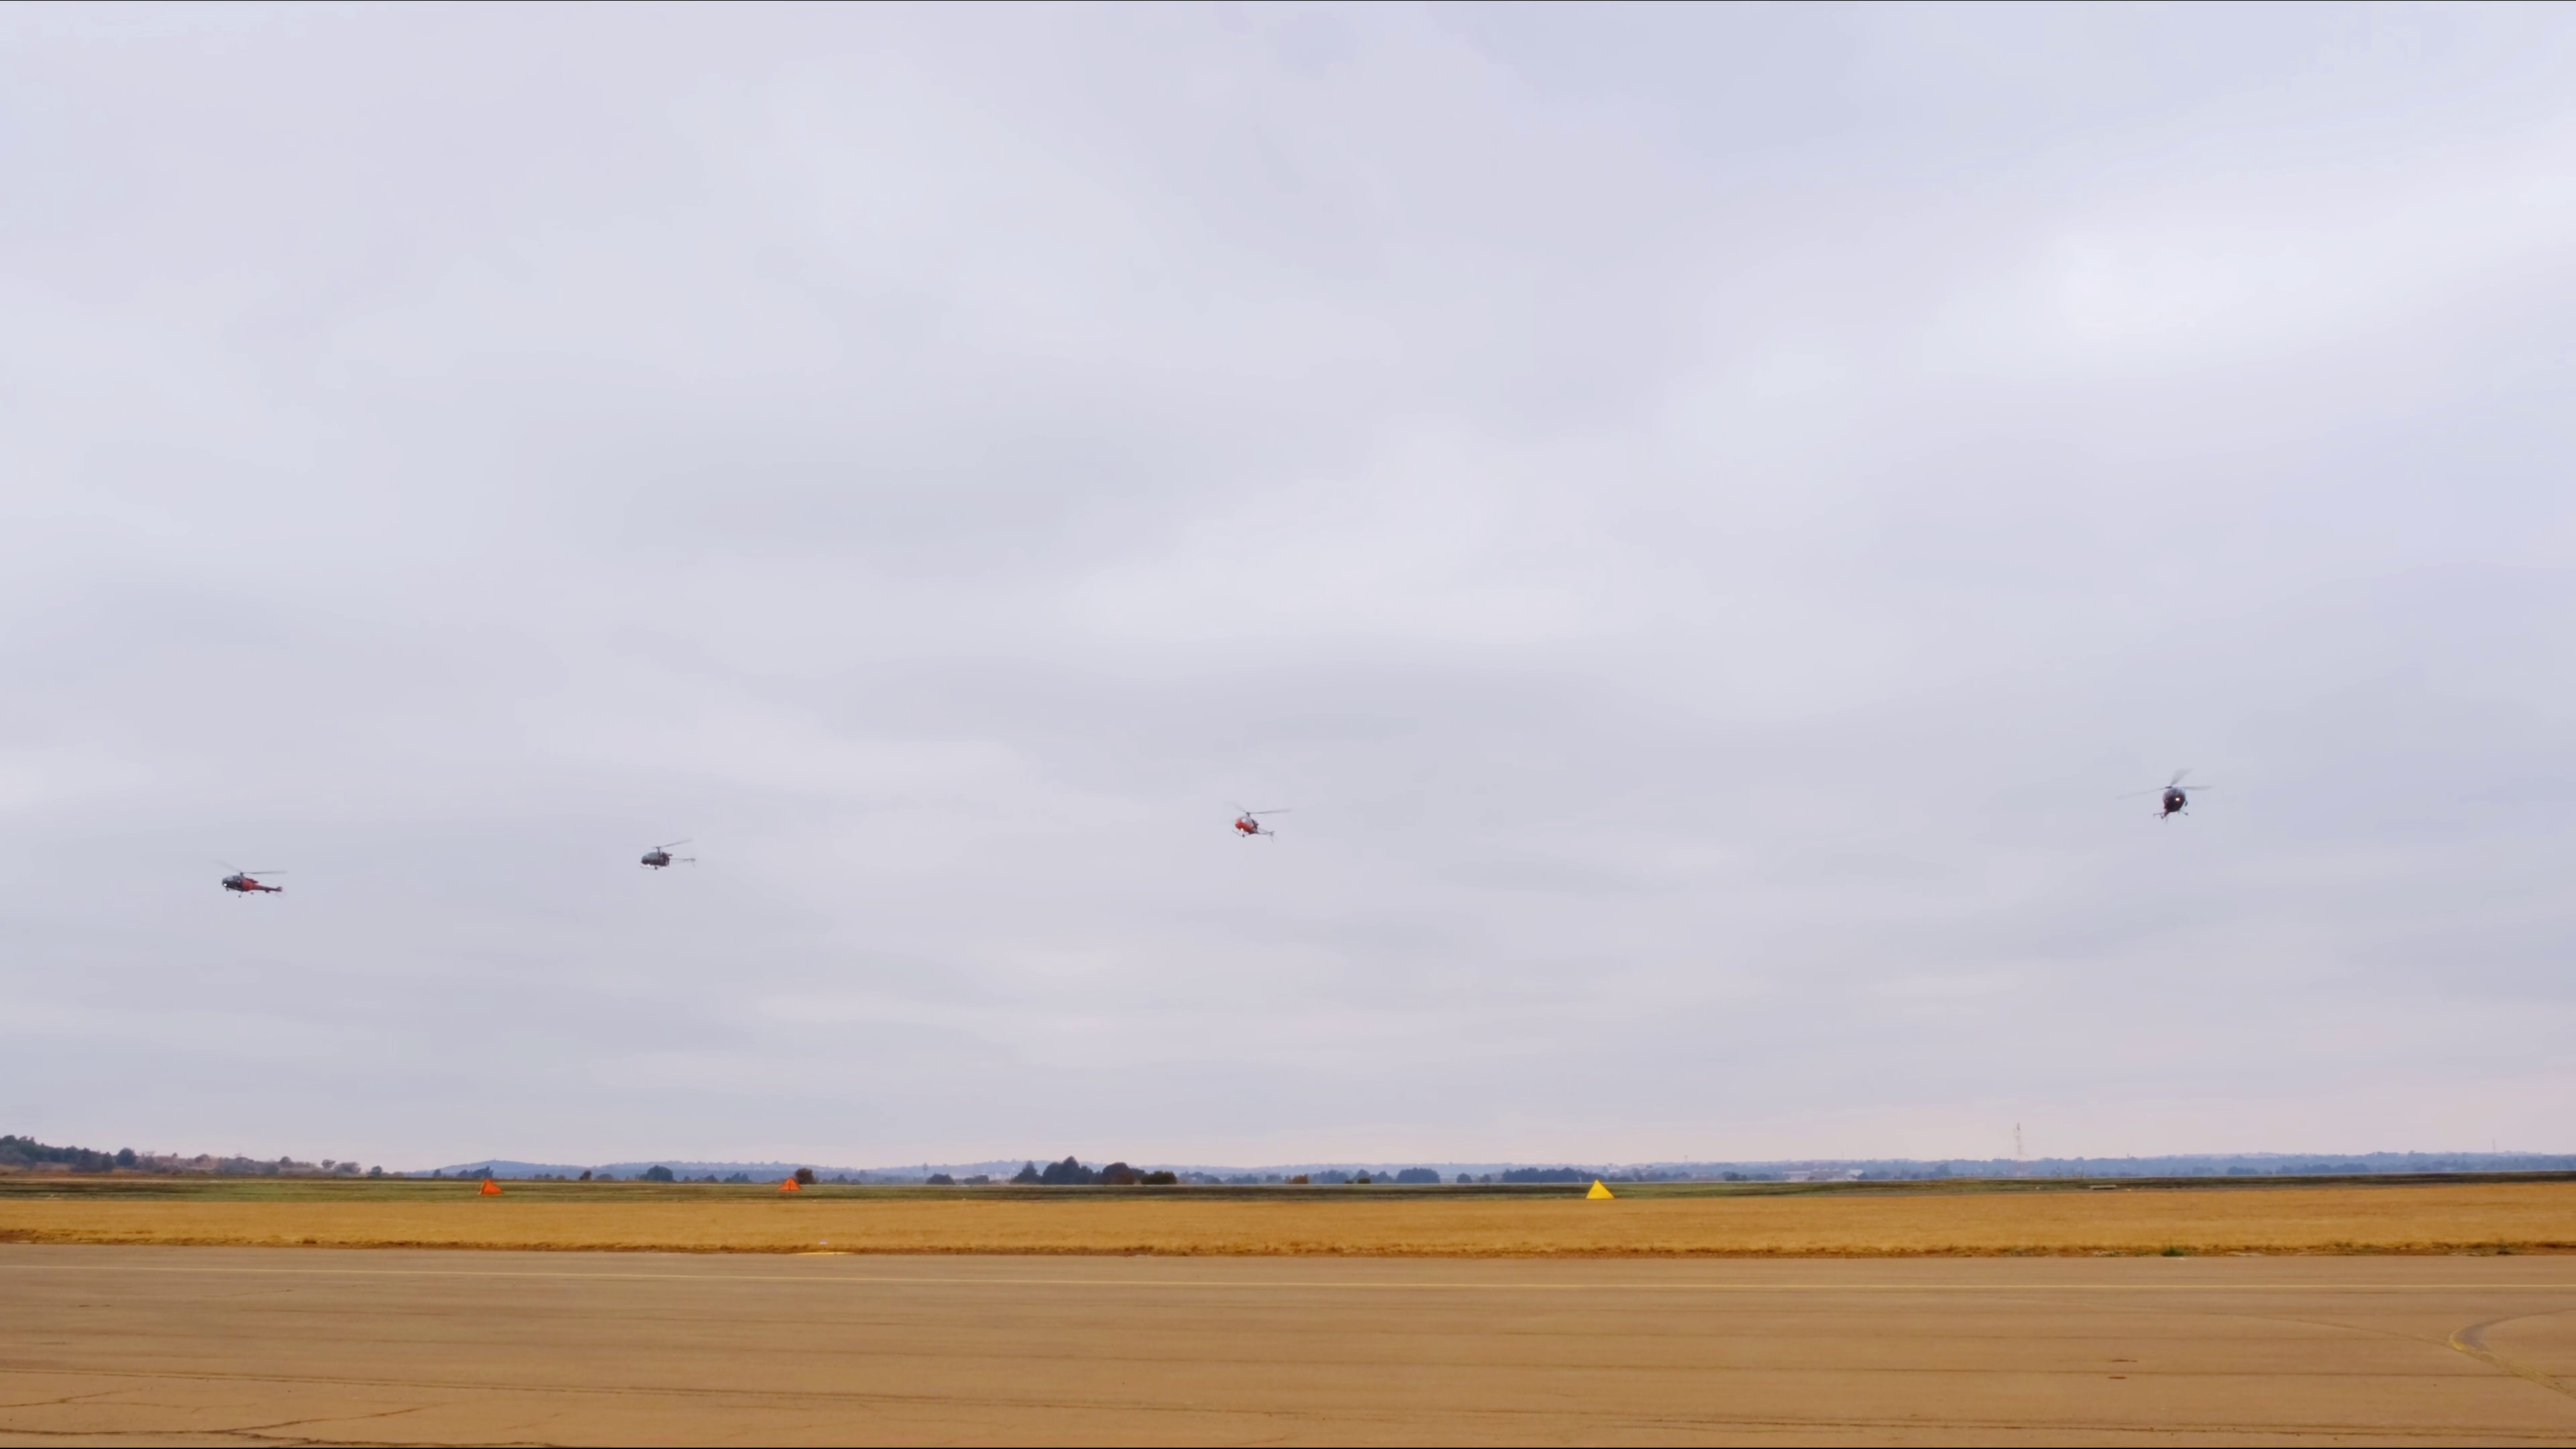heli: (2146, 771, 2215, 823), (223, 865, 287, 899), (1224, 805, 1284, 840), (639, 835, 697, 870)
